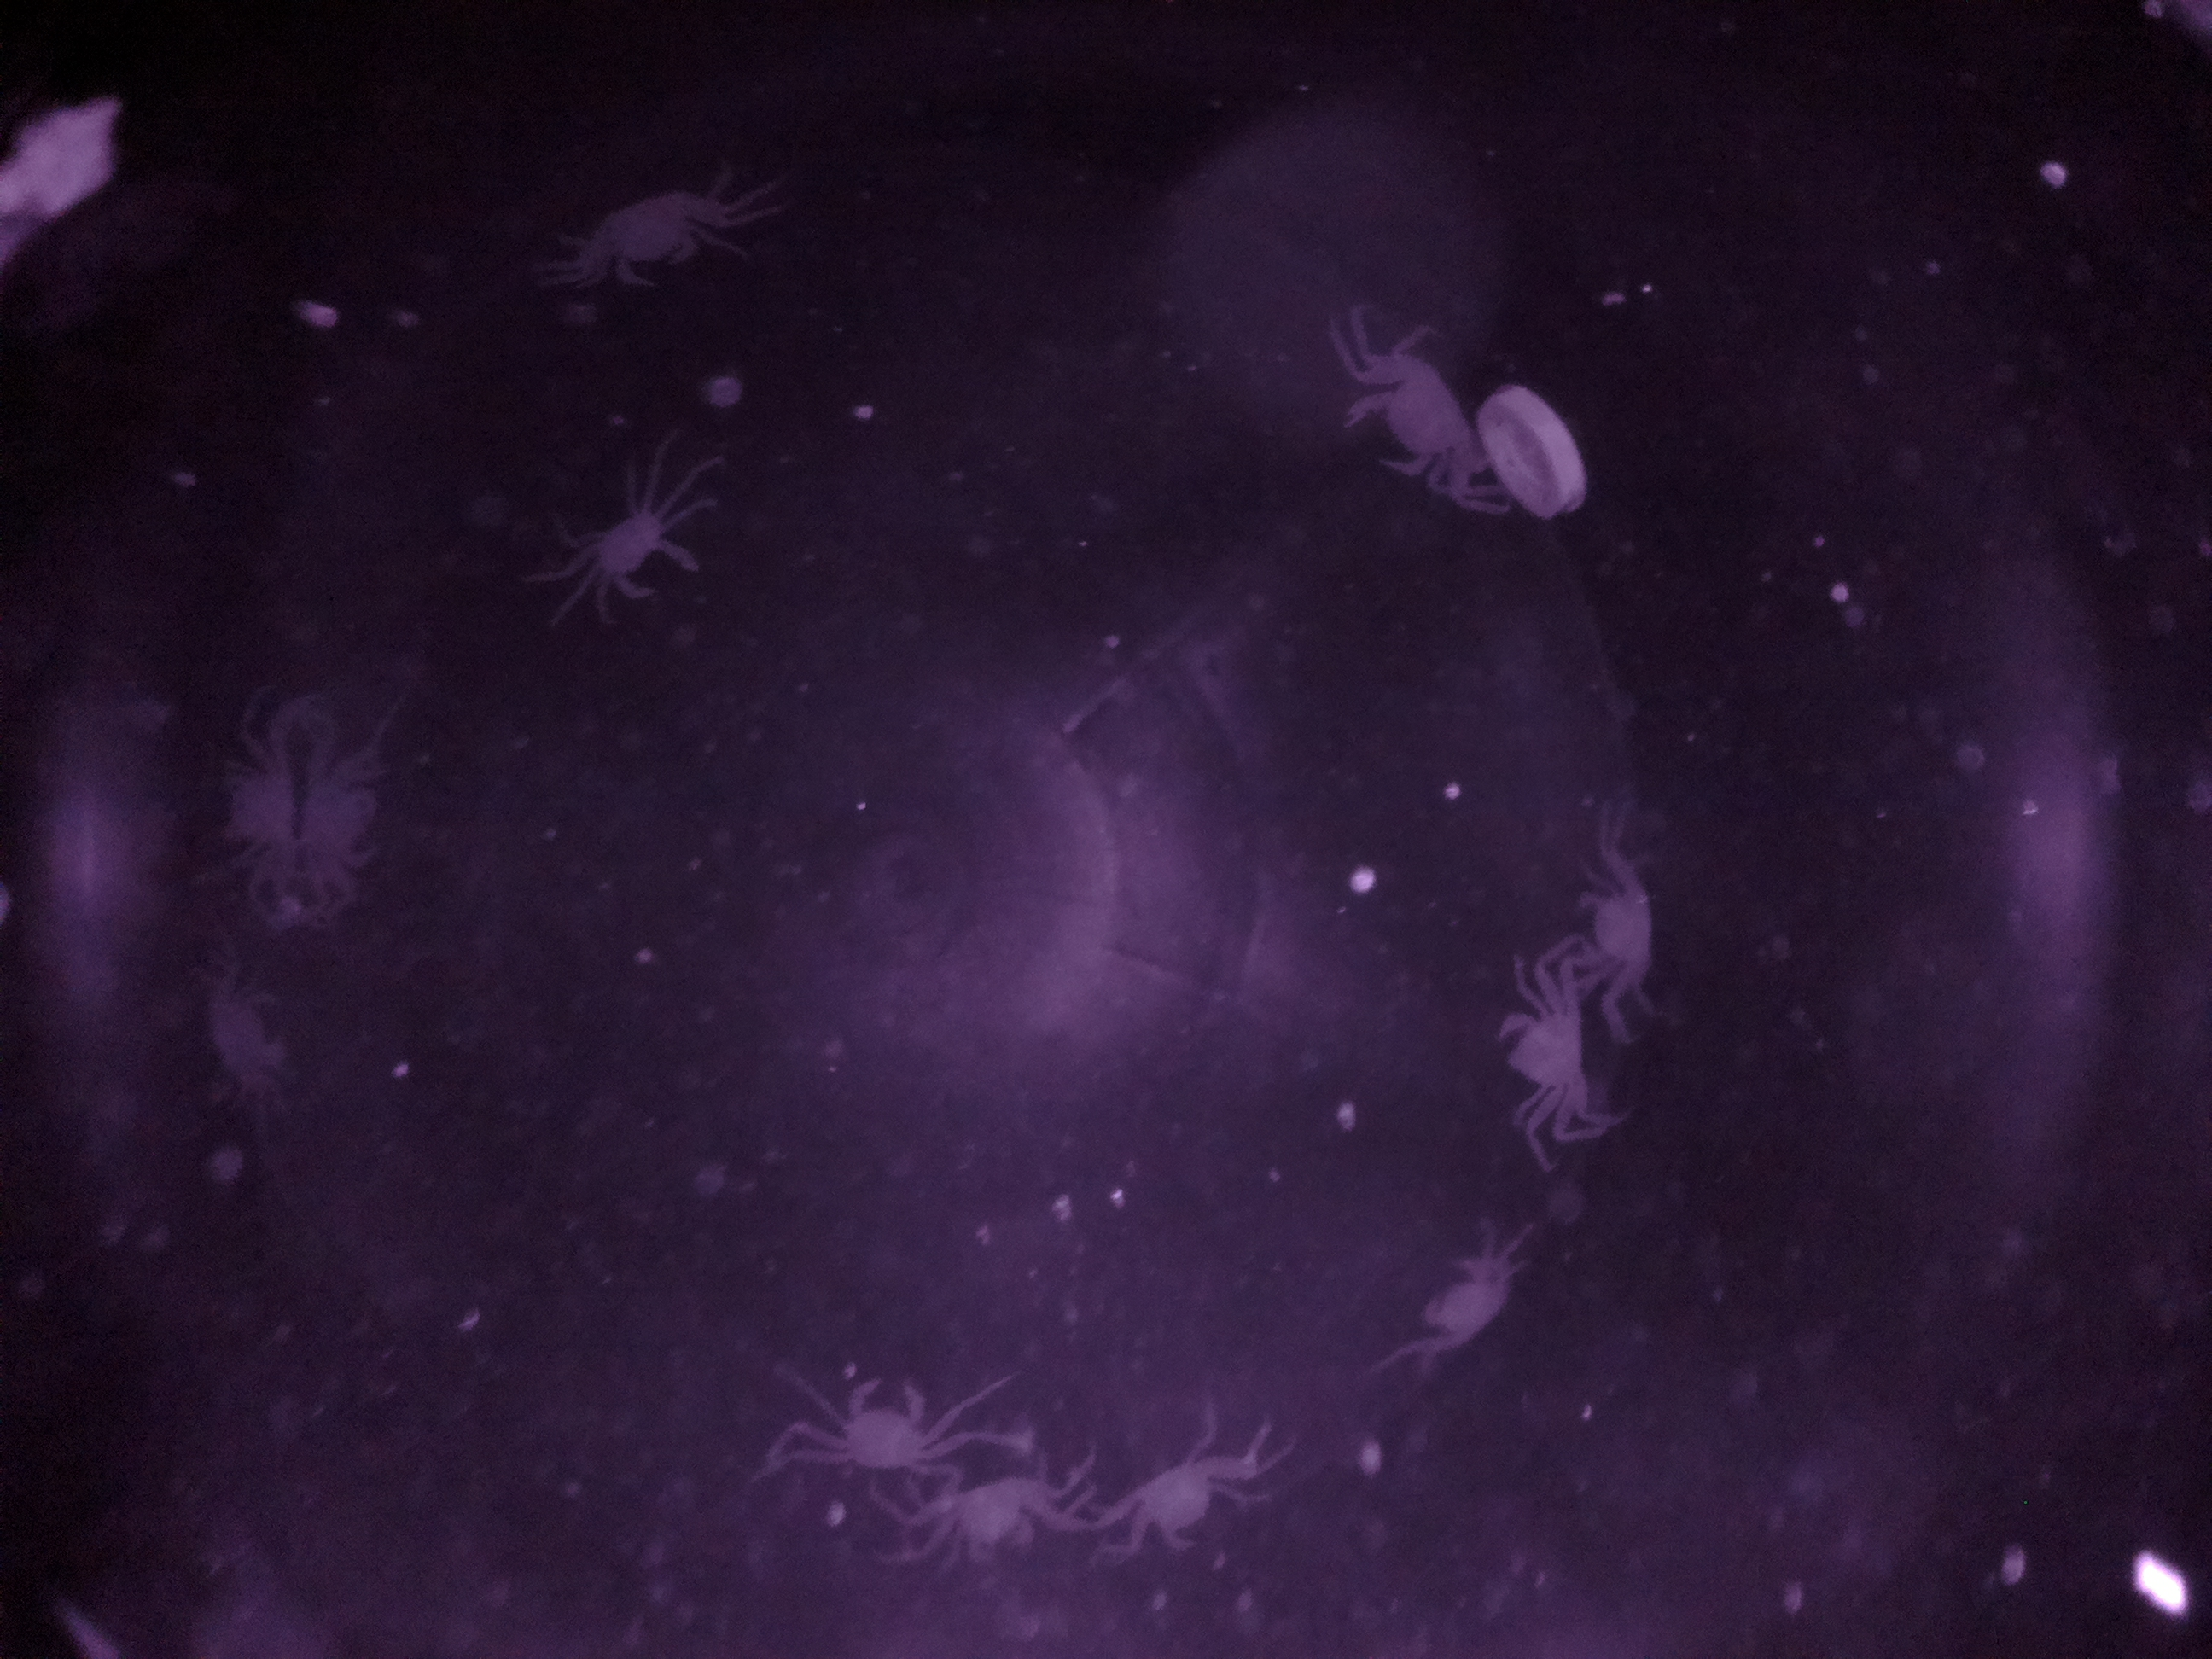Crab: (1320, 331, 1510, 518), (552, 471, 723, 650), (1089, 1436, 1277, 1584), (1475, 962, 1613, 1140), (1386, 1234, 1550, 1378), (803, 1359, 982, 1488)
